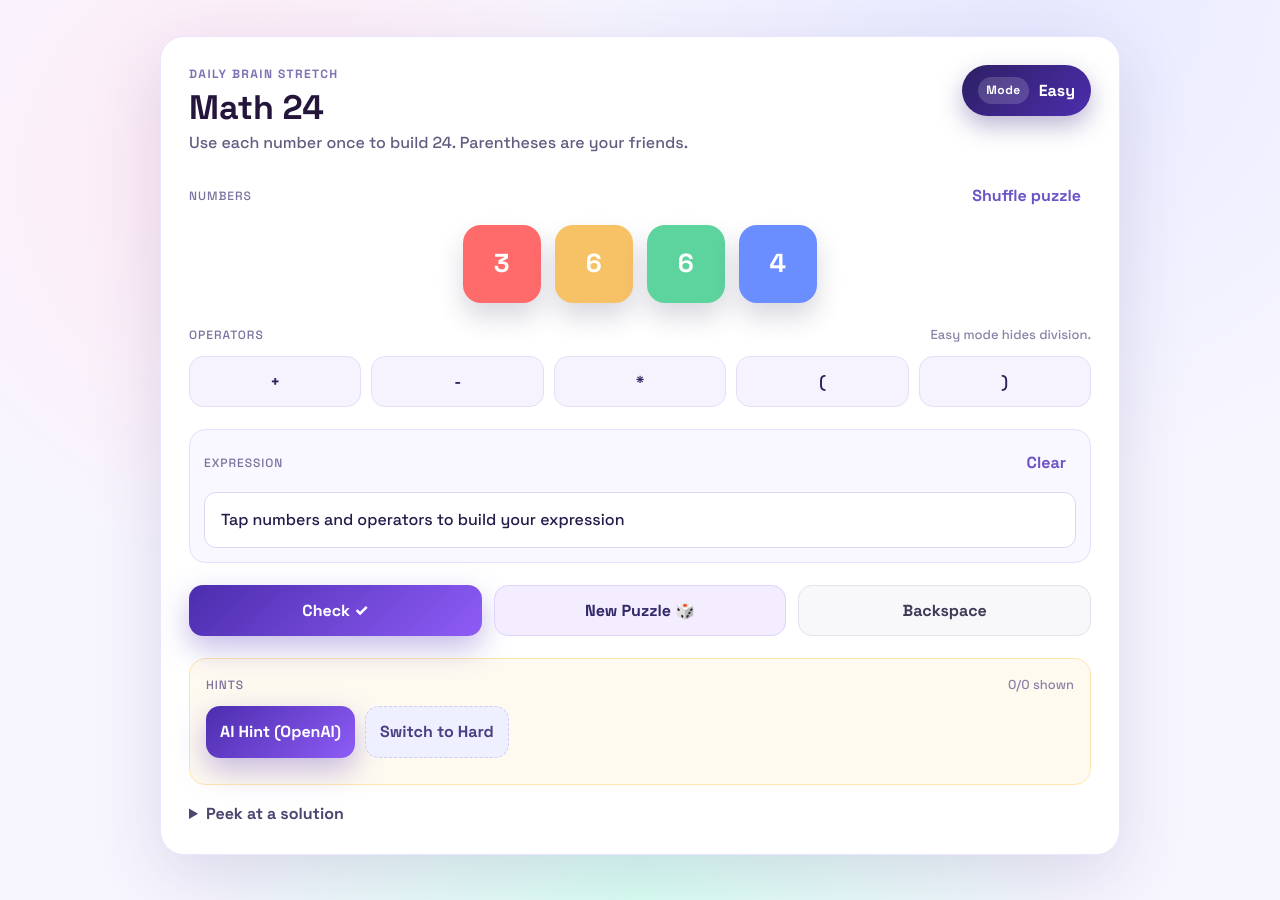
Test: Math24Game › New Puzzle › clears expression when new puzzle is generated
This screenshot has width=1280, height=900.
Click the button "3".
click(502, 264)  # box [463,225,541,303]
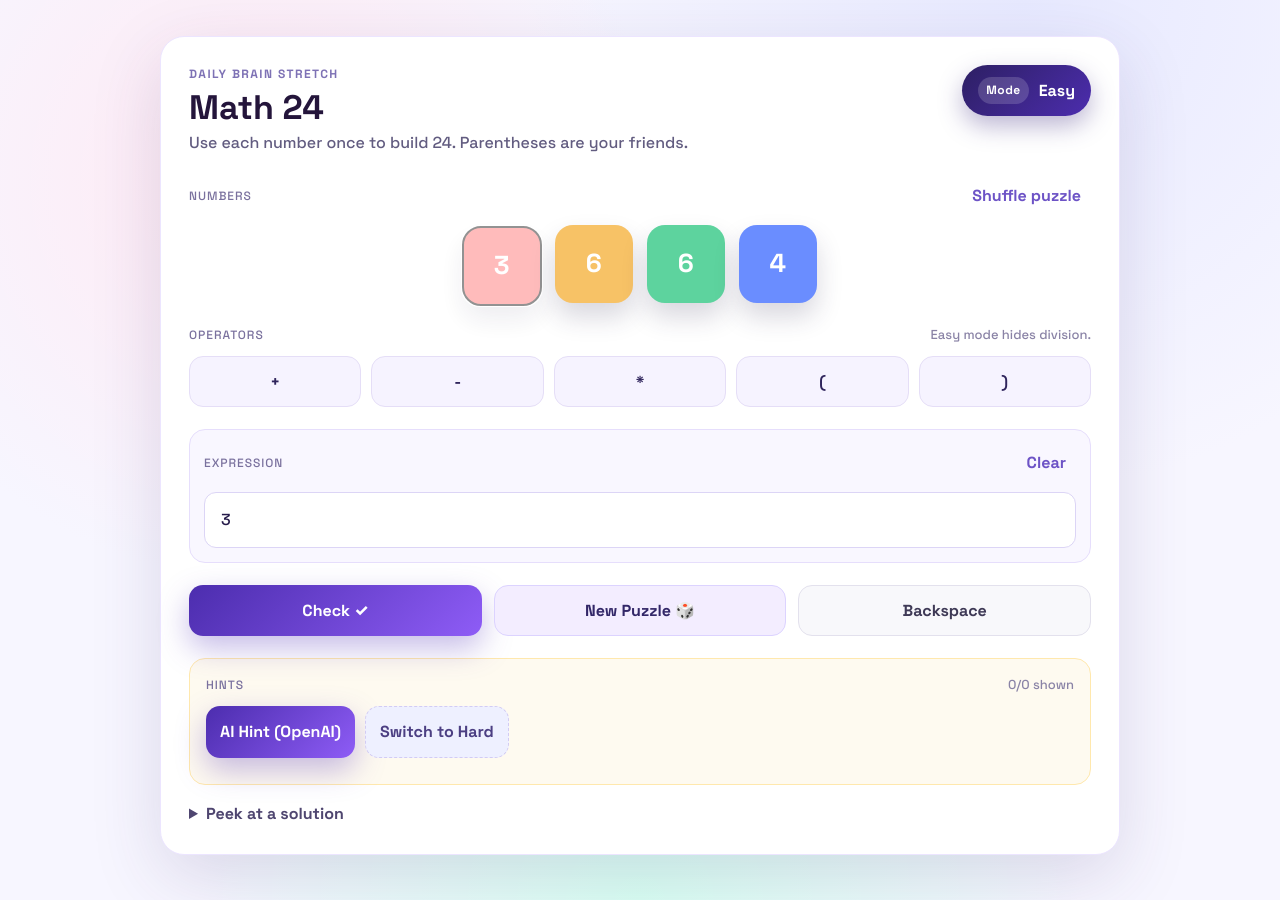
Click the button "New Puzzle 🎲".
click(640, 610)  # box [494,585,786,636]
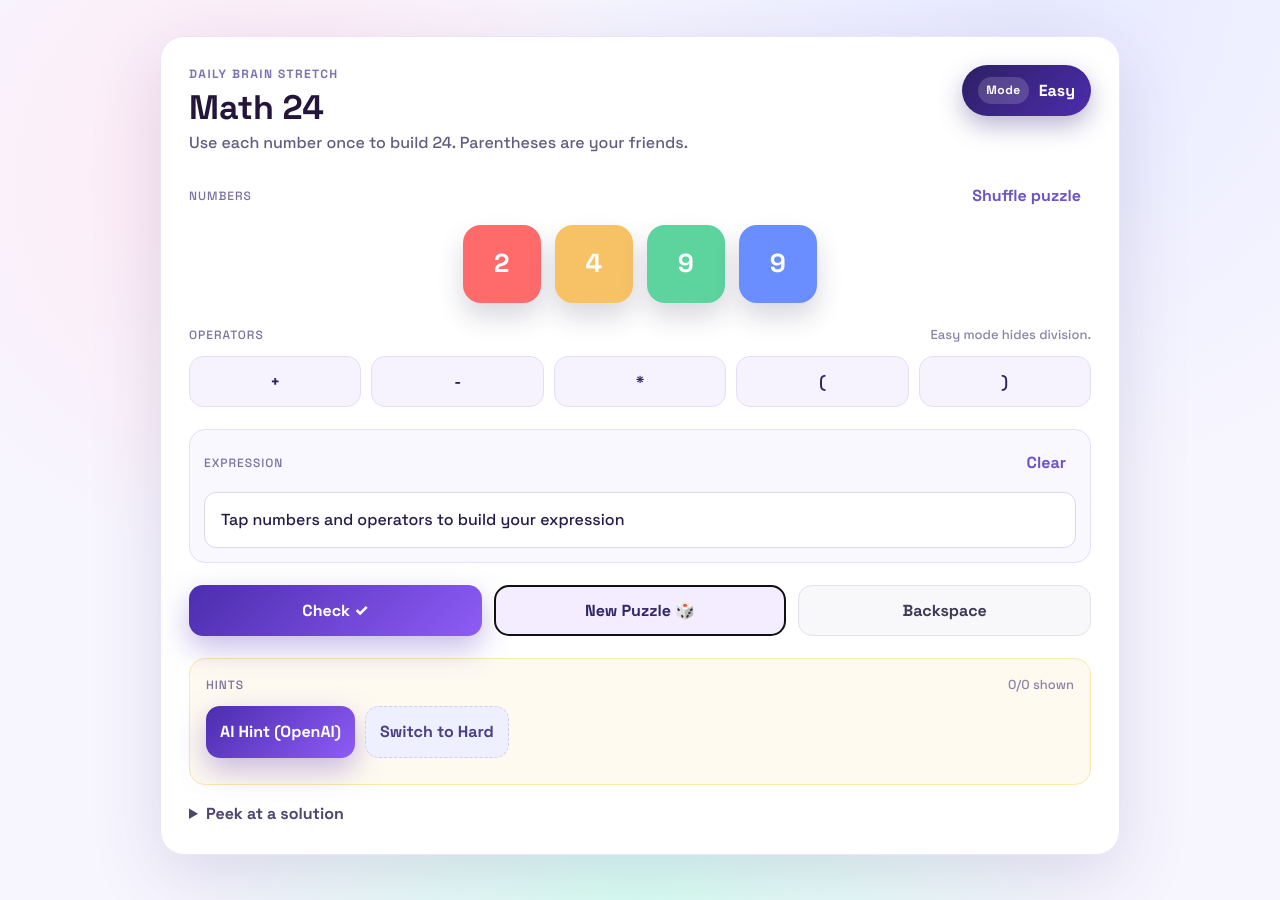
Expected: the text "Tap numbers and operators to build your expression" is shown, [204,492,1076,548]
